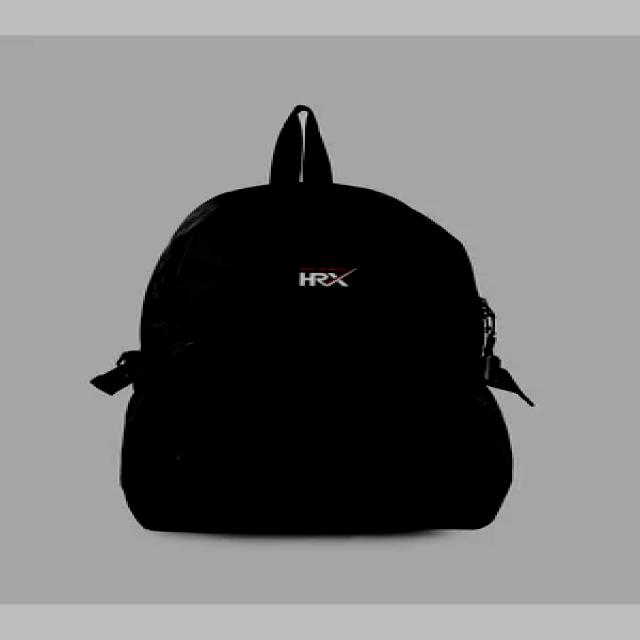backpack: (91, 105, 535, 535)
